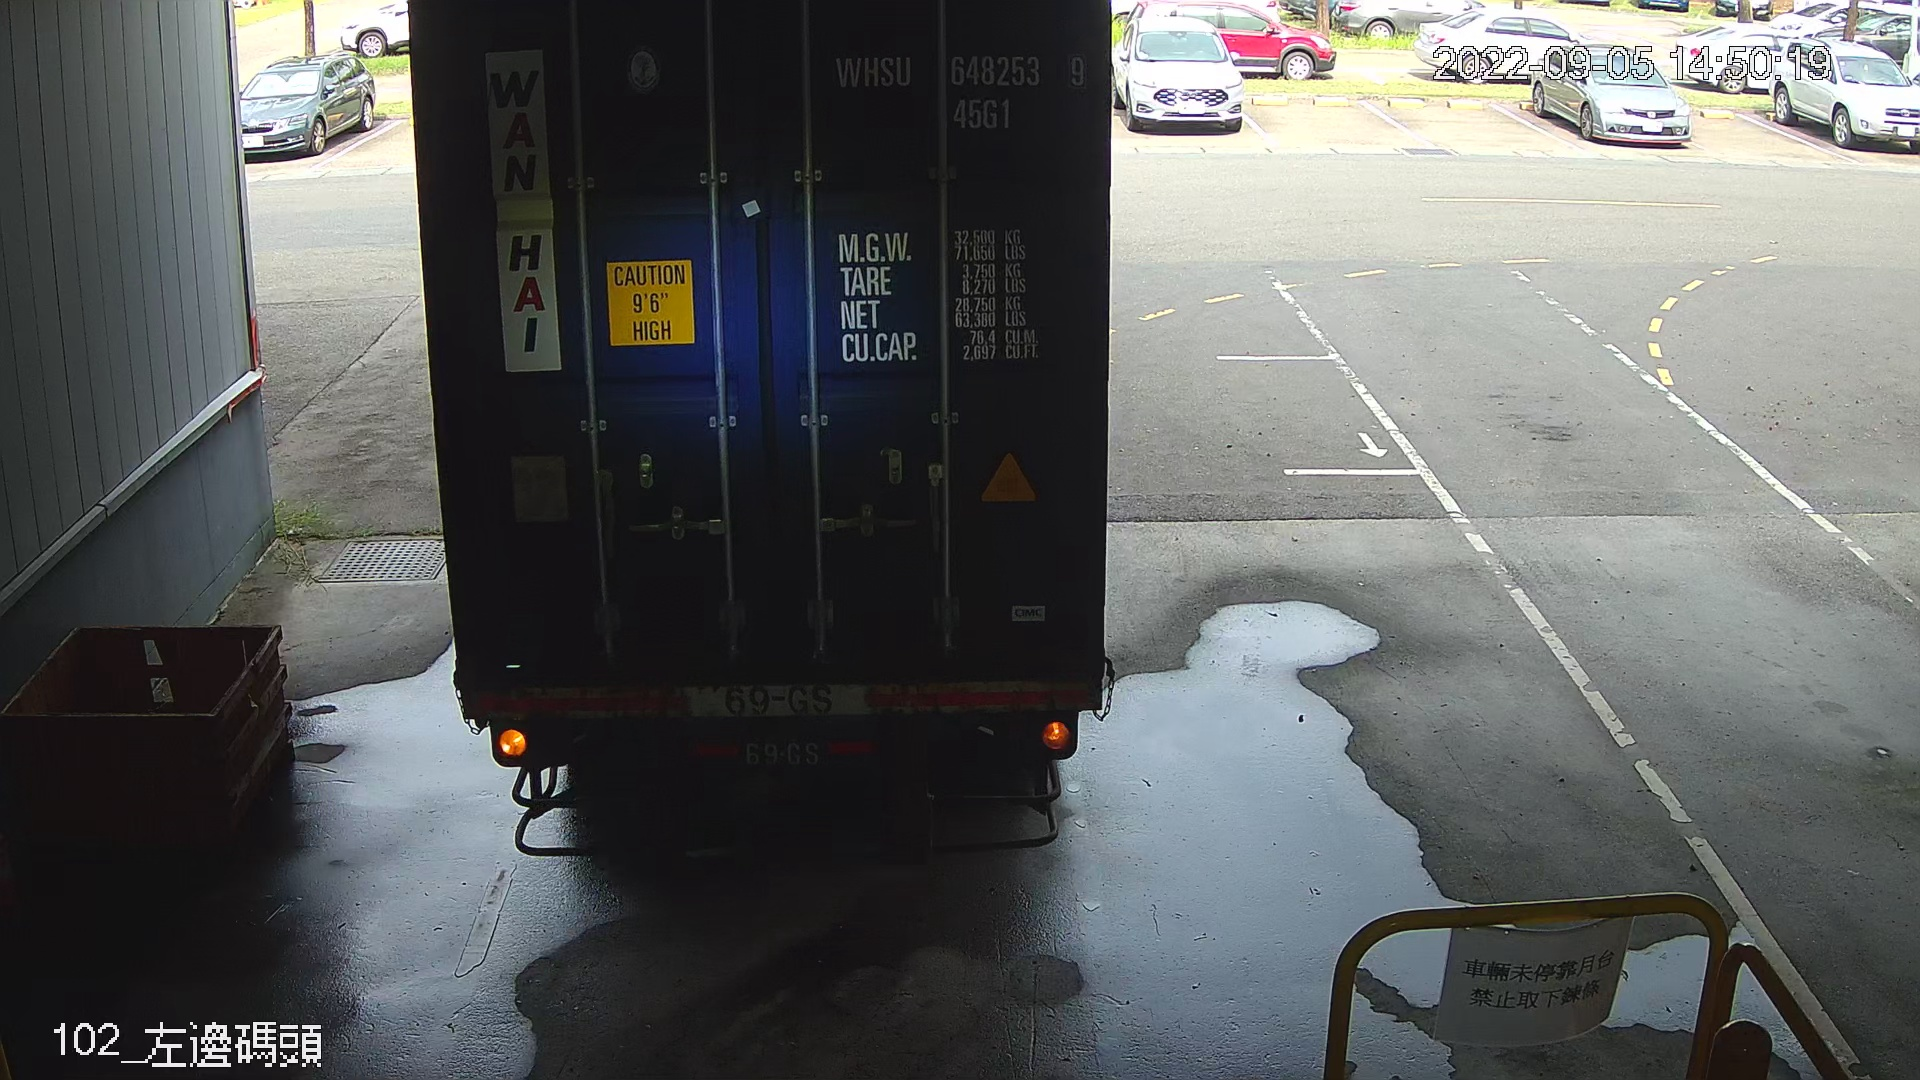container: (825, 42, 1095, 141)
